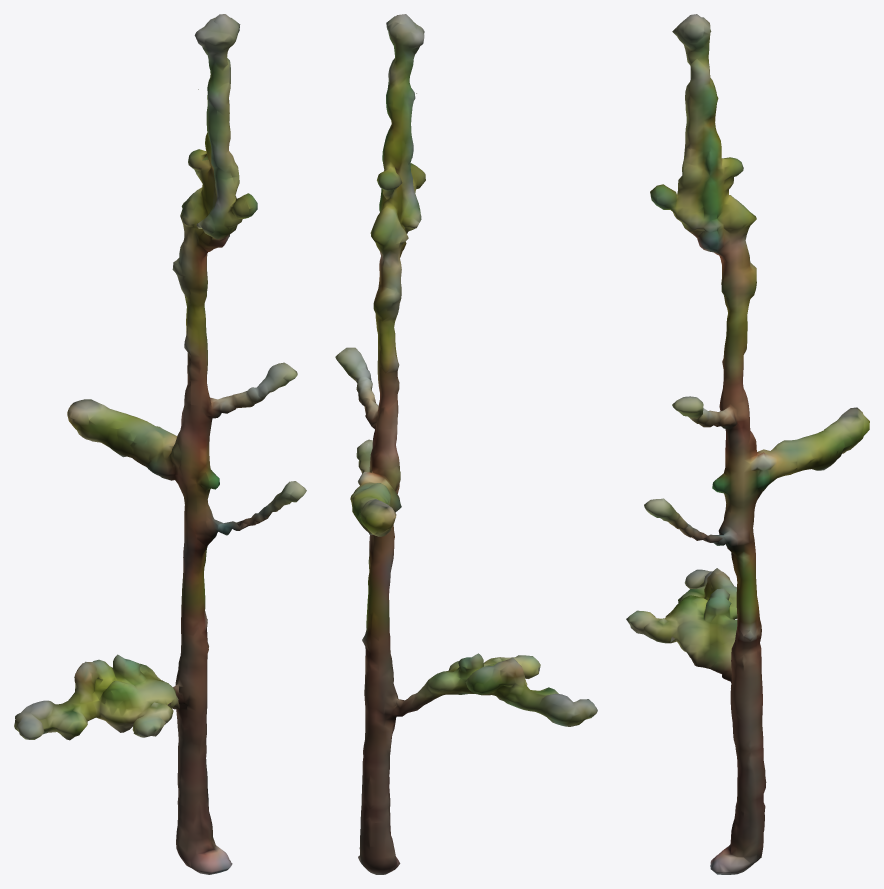
The model's file is chronos_pinetree.glb.
3 renders of one model, left to right at view 1: azimuth 30°, elevation 25°; view 2: azimuth 150°, elevation 25°; view 3: azimuth 270°, elevation 25°, orthographic. The views are drawn at different scales.
Visible parts, largest first — view 1: chronos_mesh; view 2: chronos_mesh; view 3: chronos_mesh.
Boxes of the visible parts, bbox=[...] form: chronos_mesh: bbox=[14, 14, 306, 874]; chronos_mesh: bbox=[335, 14, 597, 874]; chronos_mesh: bbox=[626, 14, 869, 874].
Size of the model in its own units: 0.5213 by 1.6 by 0.4146.
